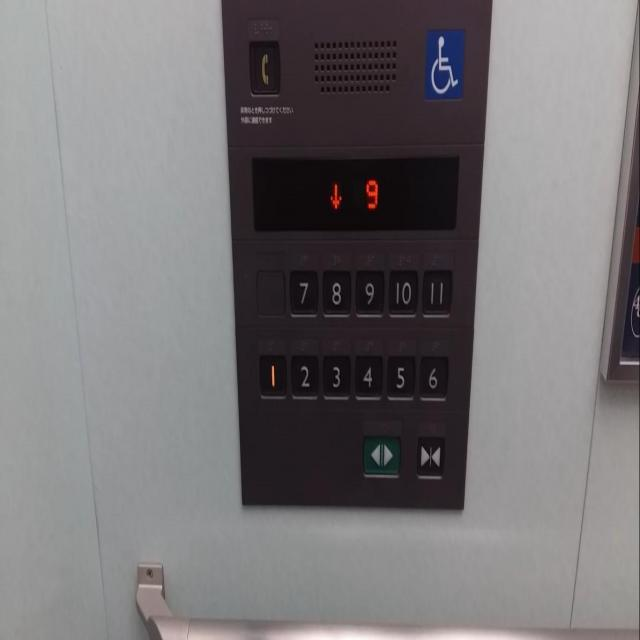1: (257, 352, 288, 402)
10: (386, 267, 418, 318)
11: (420, 267, 452, 318)
2: (289, 352, 320, 402)
3: (321, 352, 350, 402)
4: (351, 352, 383, 402)
5: (384, 352, 416, 402)
6: (418, 352, 448, 401)
7: (288, 267, 318, 318)
8: (321, 267, 350, 318)
9: (352, 267, 384, 318)
CH: (422, 28, 465, 102)
call: (248, 38, 282, 94)
close: (415, 433, 447, 479)
empty: (254, 267, 286, 318)
led: (252, 155, 459, 231)
open: (361, 432, 402, 478)
